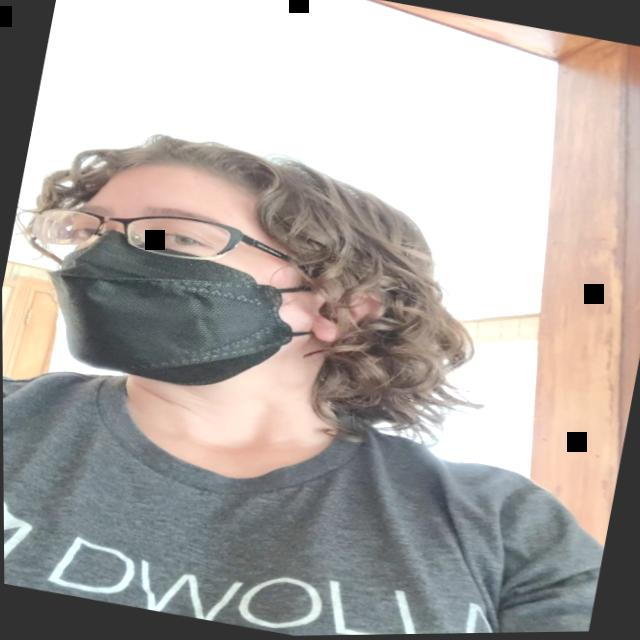Mask: (35, 140, 355, 414)
